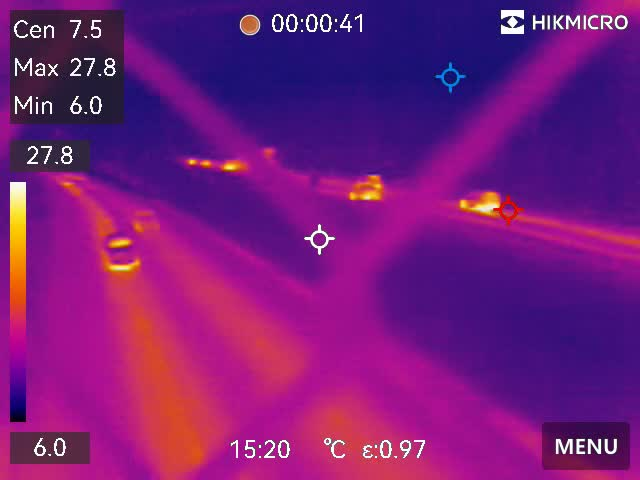vehicle: (101, 232, 142, 273)
